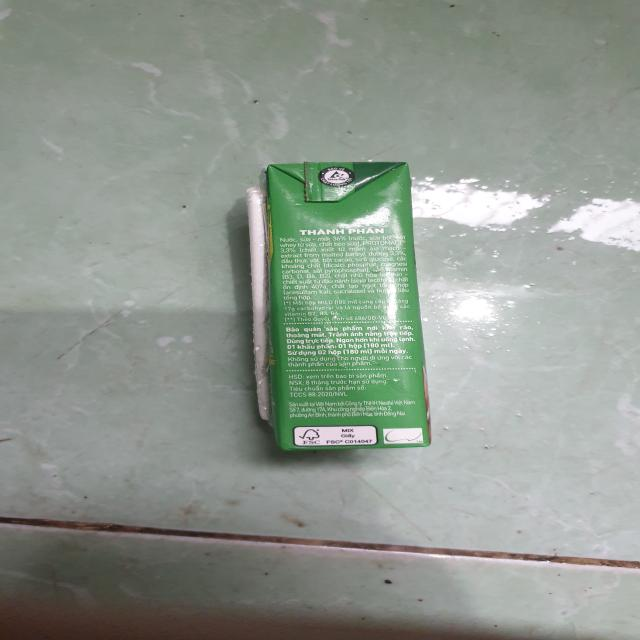Milo: (235, 158, 444, 455)
